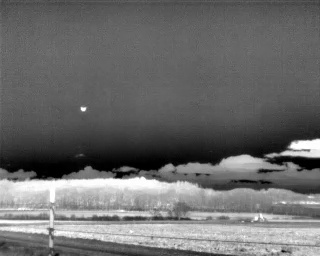DRONE: (77, 102, 90, 115)
